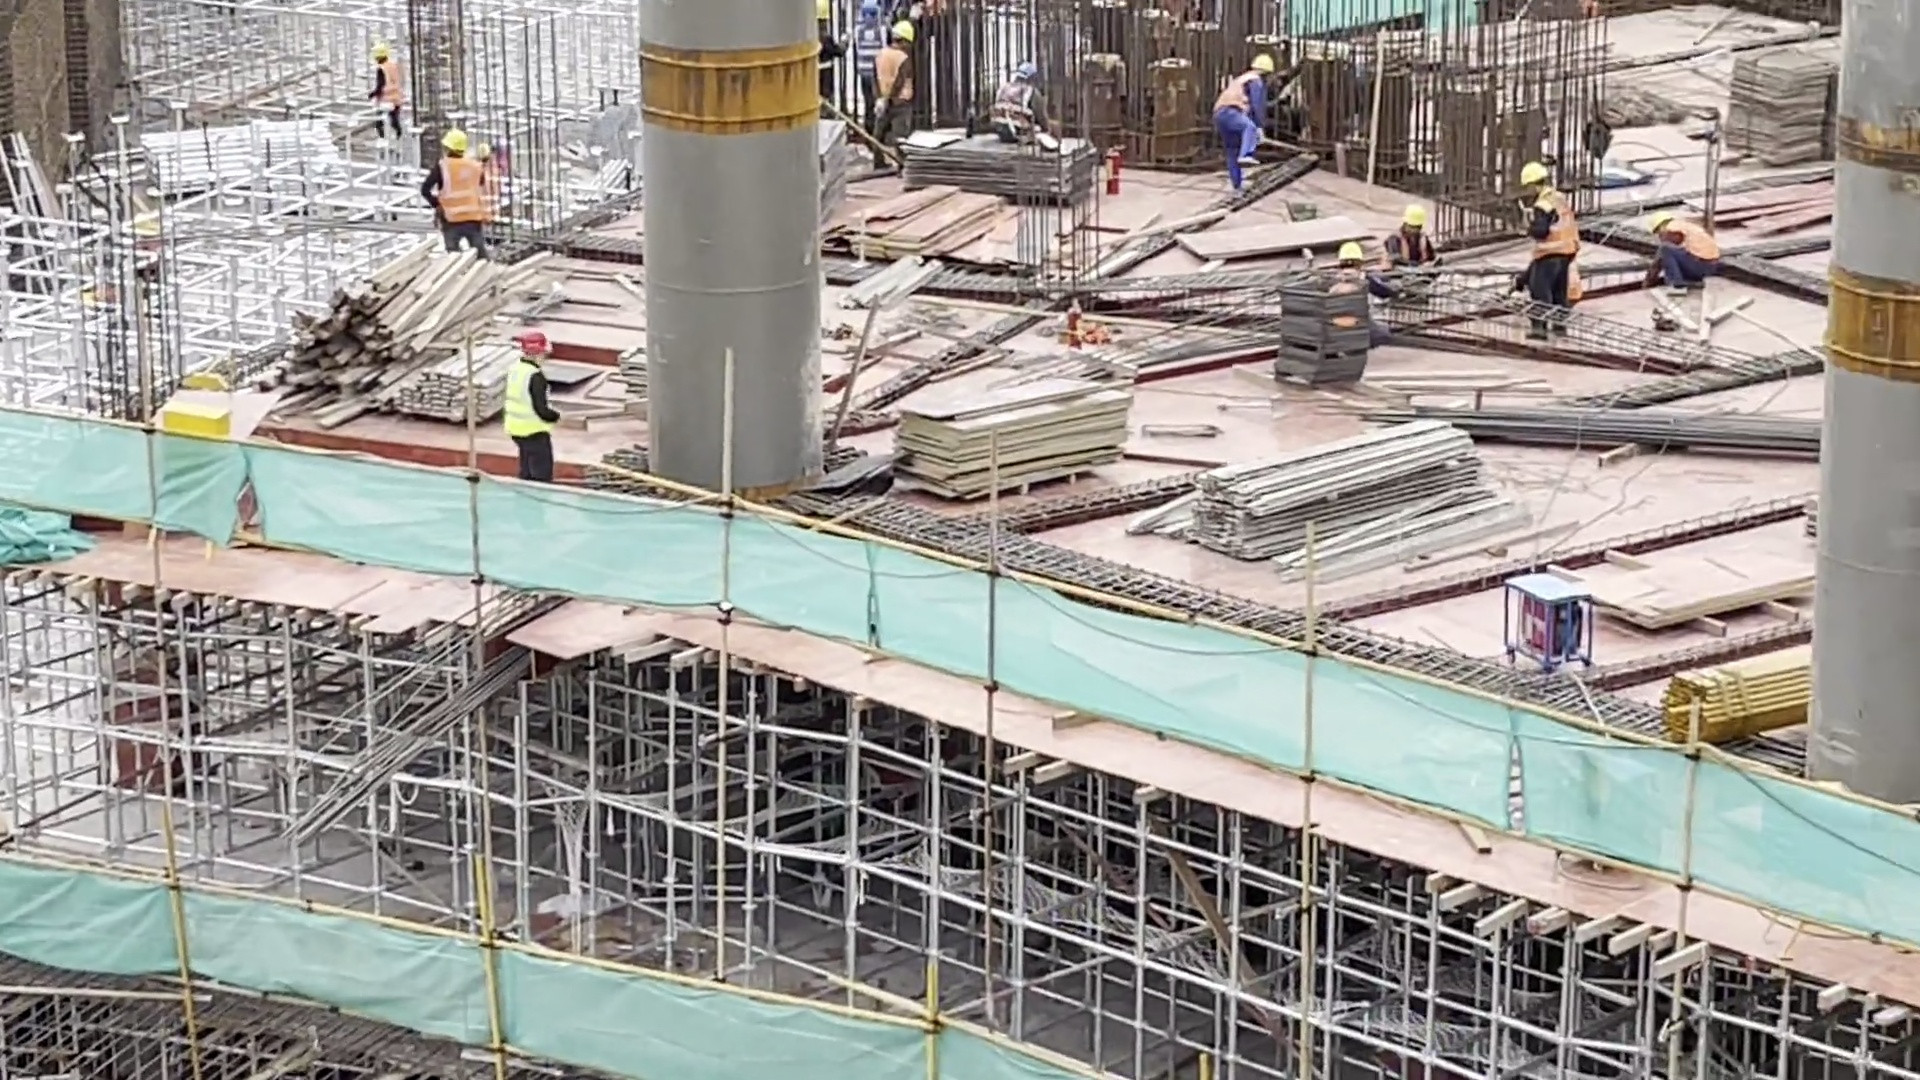board: (869, 368, 1137, 486), (885, 132, 1101, 197)
helmet: (882, 19, 915, 45), (1247, 46, 1277, 75), (1640, 204, 1669, 234), (1515, 161, 1552, 183), (440, 124, 466, 154), (1396, 206, 1432, 227), (1334, 242, 1367, 265), (1014, 57, 1040, 82), (518, 327, 547, 350), (371, 42, 389, 67)
person: (1511, 157, 1580, 331), (497, 326, 564, 486), (419, 122, 491, 261), (1208, 50, 1268, 193), (1641, 204, 1719, 300), (871, 19, 918, 172), (1326, 242, 1391, 339), (986, 61, 1047, 150), (844, 5, 886, 108), (360, 43, 403, 139), (1380, 201, 1438, 272)
rebar: (1423, 387, 1840, 475)
vest: (1519, 190, 1578, 261), (435, 157, 491, 226), (503, 367, 552, 437), (1327, 264, 1372, 327), (994, 81, 1038, 134), (1214, 70, 1264, 115), (1384, 235, 1435, 272), (873, 50, 909, 101), (1670, 224, 1717, 263), (380, 64, 405, 111)
wood: (1167, 409, 1491, 572), (251, 253, 547, 397)
